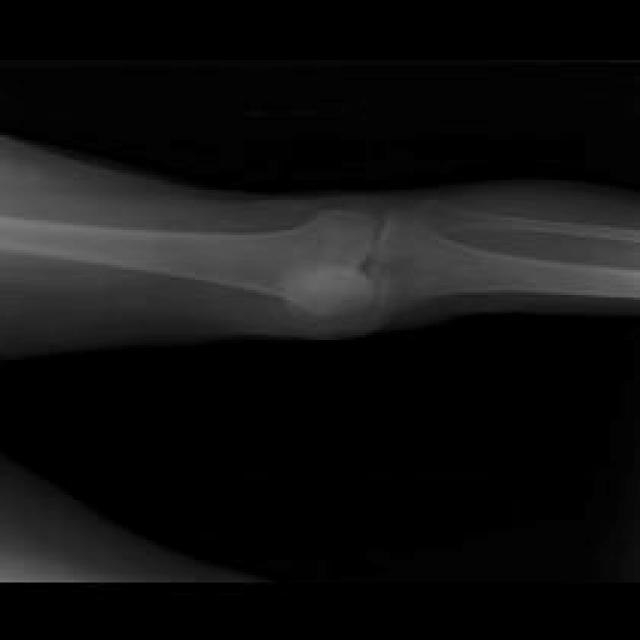normal: (0, 214, 370, 319), (367, 216, 640, 323), (413, 202, 640, 244)
